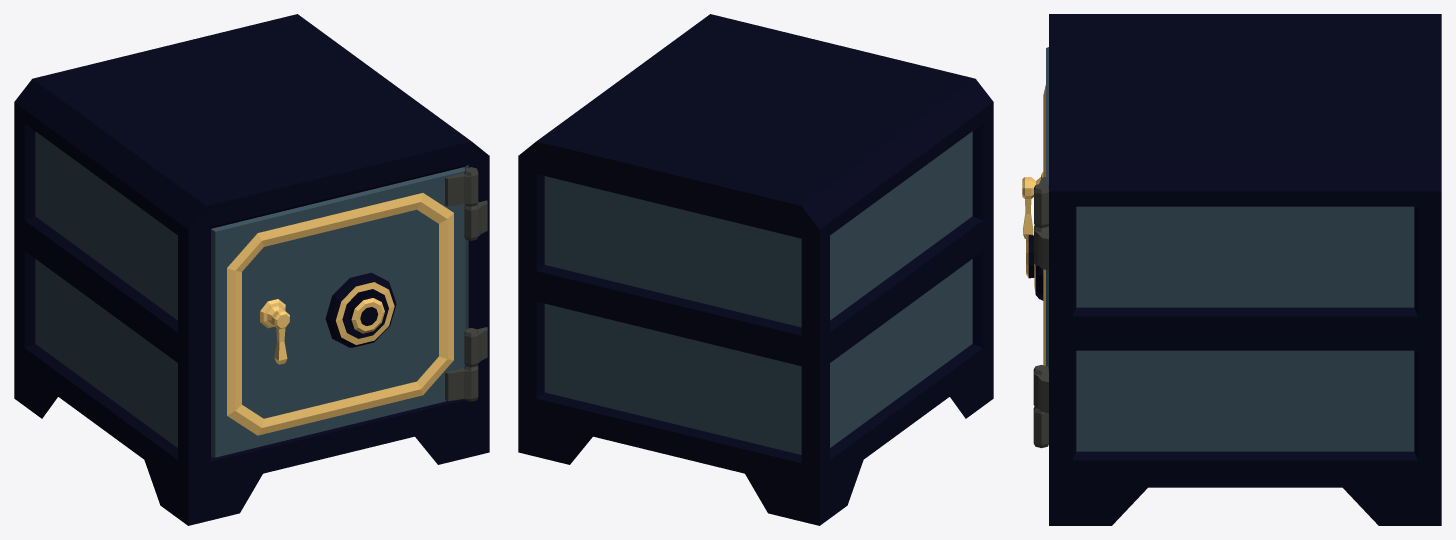
File: CajaFuerte.FBX
3 views of the same model, side by side, from view 1: azimuth 30°, elevation 25°; view 2: azimuth 150°, elevation 25°; view 3: azimuth 270°, elevation 25° (orthographic). The views are drawn at different scales.
Visible parts, largest first — view 1: CajaFuerte; view 2: CajaFuerte; view 3: CajaFuerte.
Part boxes in pixels (x1,y1,x2,y2): CajaFuerte: [14, 14, 489, 525]; CajaFuerte: [518, 14, 993, 525]; CajaFuerte: [1022, 14, 1441, 525].
Size of the model in its own units: 150 by 150 by 160.
